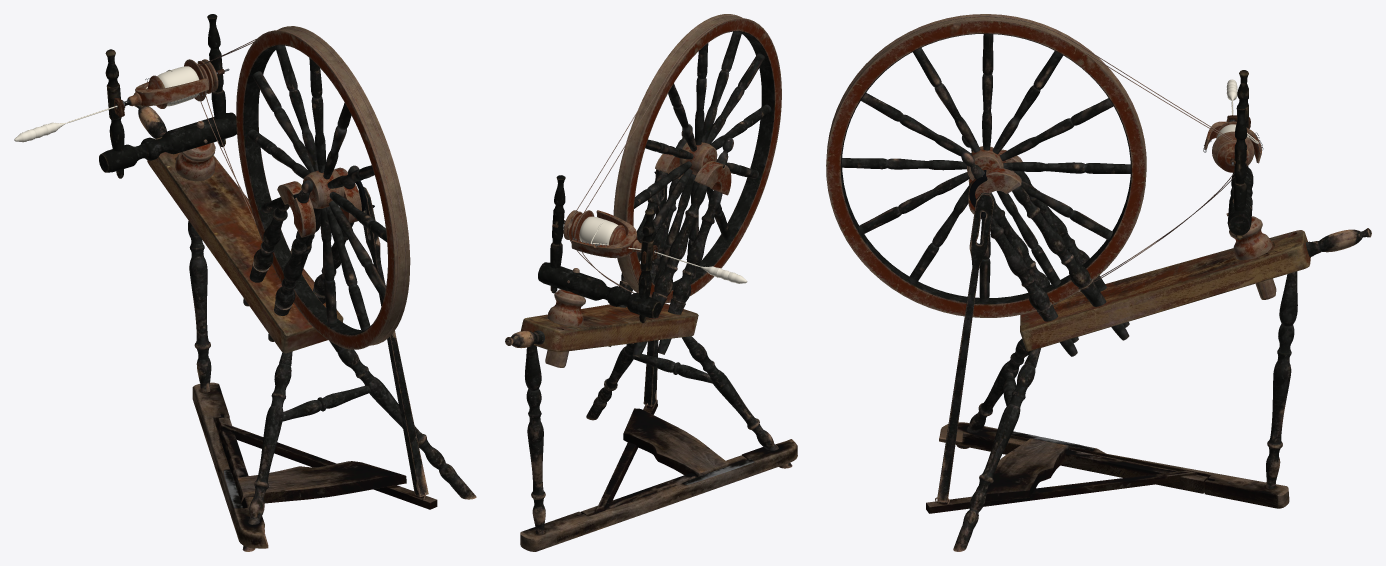
File: spinning-wheel.glb
3 views of the same model, side by side, from view 1: azimuth 30°, elevation 25°; view 2: azimuth 150°, elevation 25°; view 3: azimuth 270°, elevation 25° (orthographic). The views are drawn at different scales.
Visible parts, largest first — view 1: wheel, legs, table, treadle, uprights, mother_of_all, footman, drive_band, flyer, front_maiden, bobbin, back_maiden (+1 smaller); view 2: wheel, legs, uprights, treadle, table, mother_of_all, bobbin, flyer, front_maiden, back_maiden, footman, drive_band (+2 smaller); view 3: wheel, table, legs, treadle, uprights, footman, mother_of_all, back_maiden, drive_band, tension_screw.
Part boxes in pixels (left/top/right/bottom): wheel: left=236, top=26, right=410, bottom=349; legs: left=188, top=221, right=476, bottom=551; table: left=147, top=137, right=343, bottom=353; treadle: left=215, top=416, right=437, bottom=509; uprights: left=243, top=165, right=361, bottom=341; mother_of_all: left=99, top=112, right=236, bottom=181; footman: left=358, top=187, right=428, bottom=497; drive_band: left=199, top=28, right=406, bottom=344; flyer: left=115, top=68, right=229, bottom=108; front_maiden: left=105, top=49, right=124, bottom=178; bobbin: left=147, top=59, right=209, bottom=108; back_maiden: left=207, top=14, right=225, bottom=147; wheel: left=613, top=14, right=781, bottom=302; legs: left=520, top=336, right=797, bottom=551; uprights: left=608, top=124, right=733, bottom=357; treadle: left=580, top=399, right=754, bottom=516; table: left=521, top=303, right=698, bottom=352; mother_of_all: left=538, top=262, right=661, bottom=367; bobbin: left=571, top=210, right=626, bottom=245; flyer: left=564, top=210, right=655, bottom=258; front_maiden: left=638, top=208, right=657, bottom=323; back_maiden: left=550, top=175, right=565, bottom=293; footman: left=643, top=169, right=667, bottom=406; drive_band: left=567, top=15, right=741, bottom=293; wheel: left=826, top=14, right=1146, bottom=317; table: left=1020, top=230, right=1310, bottom=351; legs: left=939, top=271, right=1297, bottom=551; treadle: left=926, top=431, right=1207, bottom=513; uprights: left=961, top=135, right=1129, bottom=356; footman: left=937, top=192, right=993, bottom=502; mother_of_all: left=1226, top=167, right=1276, bottom=299; back_maiden: left=1230, top=105, right=1247, bottom=239; drive_band: left=830, top=16, right=1234, bottom=281; tension_screw: left=1306, top=228, right=1371, bottom=257.
Size of the model in its own units: 0.6716 by 0.9662 by 1.02.
Materials: 4 (1 with a texture image).
